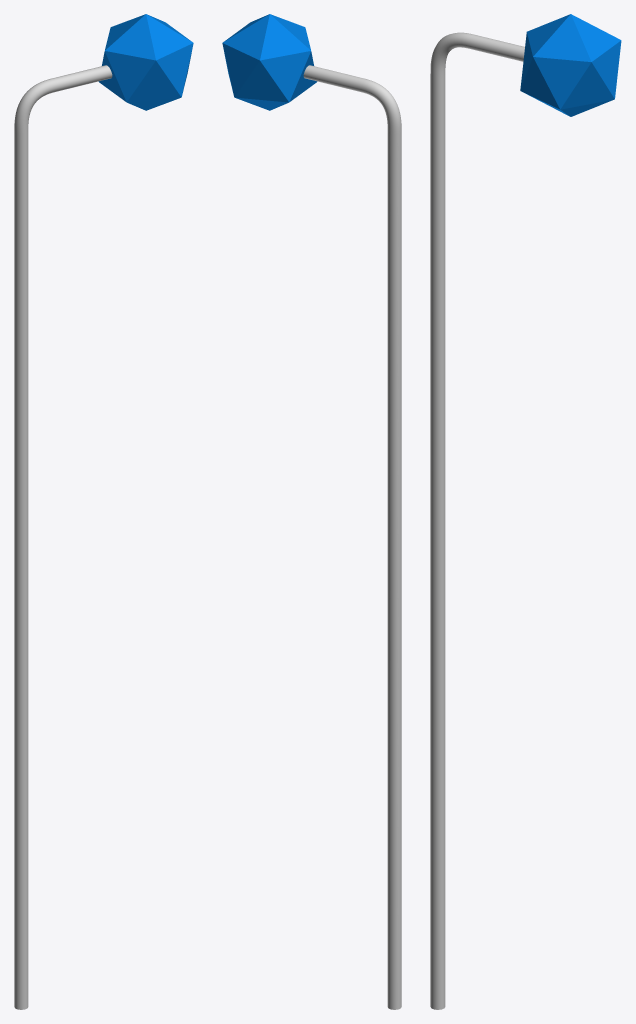
The model's file is Fireman pole.glb.
The picture shows the model from 3 angles, left to right: view 1: azimuth 30°, elevation 25°; view 2: azimuth 150°, elevation 25°; view 3: azimuth 330°, elevation 25°; orthographic projection. The views are drawn at different scales.
Parts seen in each view (by area): view 1: NurbsPath.006, Joint.060; view 2: NurbsPath.006, Joint.060; view 3: NurbsPath.006, Joint.060.
Boxes of the visible parts, x1,y1,x2,y2 form: NurbsPath.006: (14,65,112,1009); Joint.060: (98,14,193,110); NurbsPath.006: (303,65,401,1009); Joint.060: (222,14,317,110); NurbsPath.006: (430,32,524,1009); Joint.060: (520,14,621,116).
Bounding box in the file's own units: 0.5673 × 3.03 × 0.2593.
